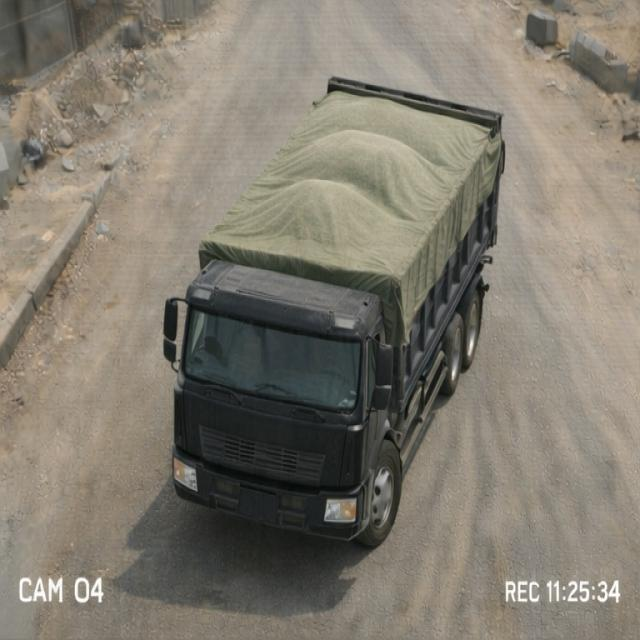trailer: (199, 77, 514, 295)
truck: (160, 68, 519, 532)
